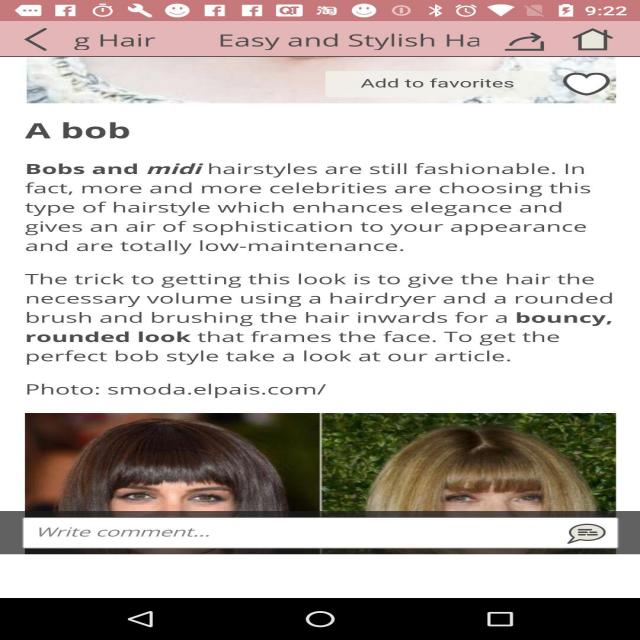text: (12, 114, 632, 410)
